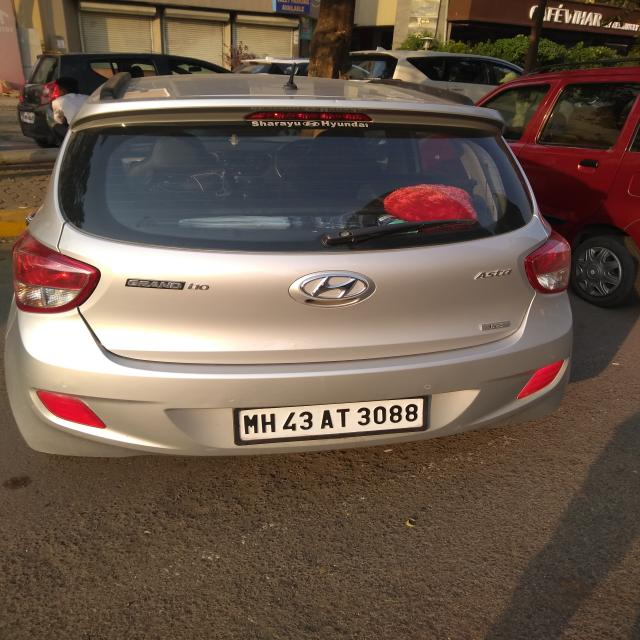Number-Plate: (238, 398, 420, 439)
